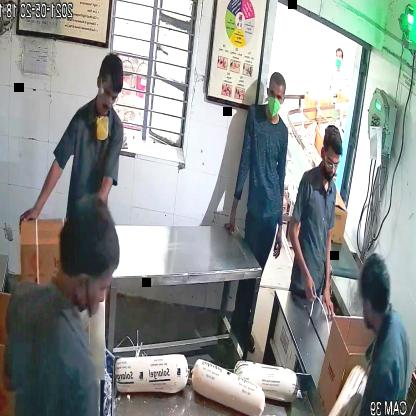goggles: (96, 83, 122, 104), (322, 152, 343, 174)
no_goggles: (264, 85, 288, 106)
